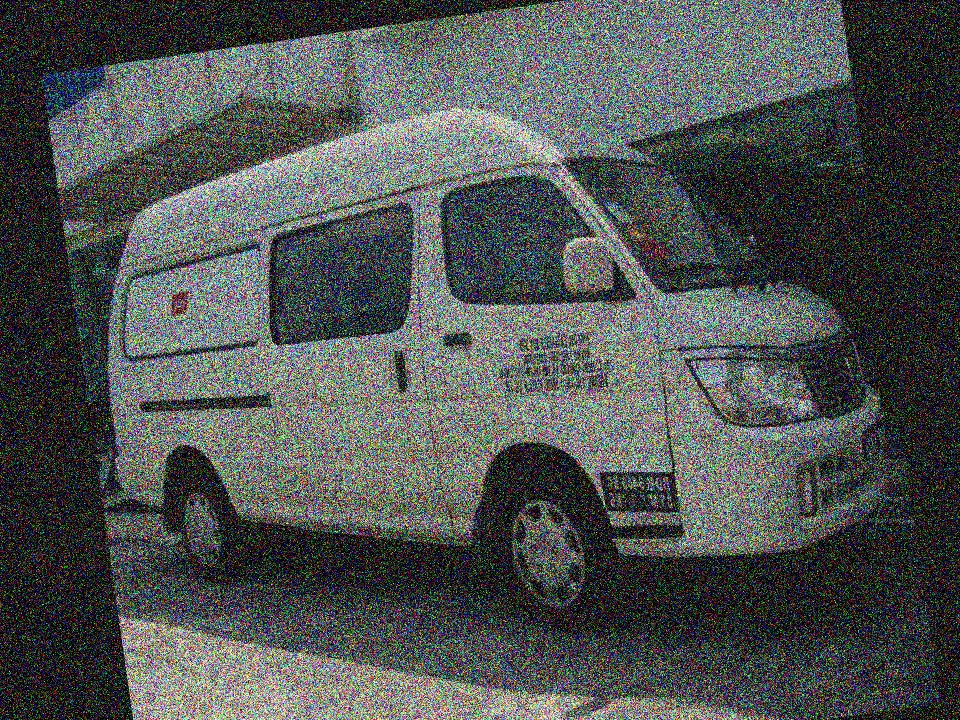van: (69, 55, 901, 668)
